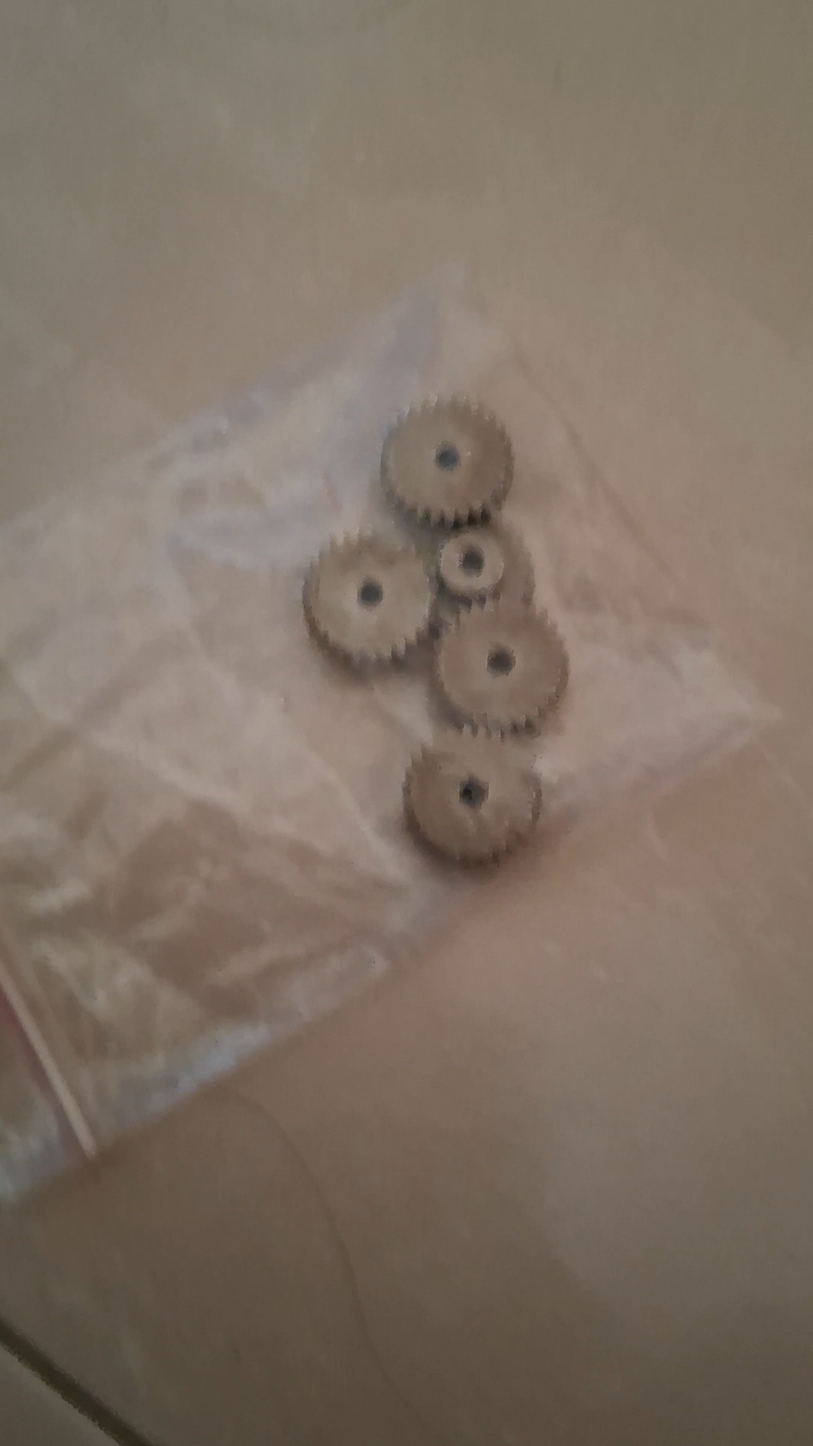spur gear: (435, 600, 568, 734), (381, 398, 513, 526), (303, 535, 433, 664), (405, 738, 540, 862), (437, 525, 533, 606)
